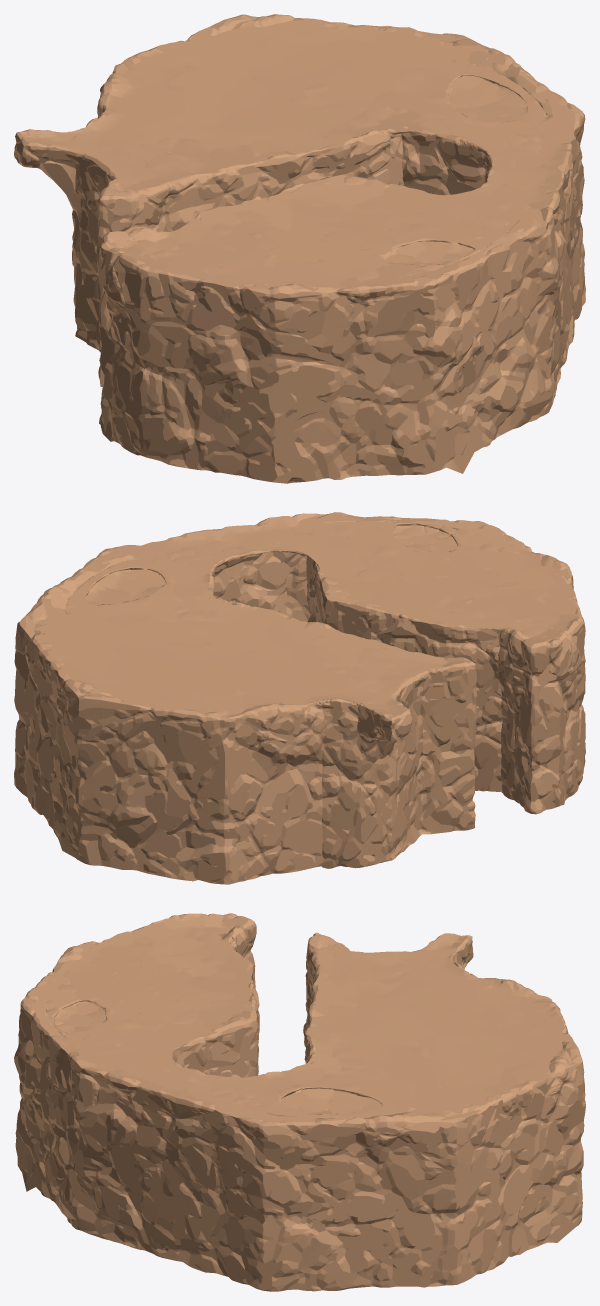
File: testSandstone.fbx
The picture shows the model from 3 angles, top to bottom: view 1: azimuth 30°, elevation 25°; view 2: azimuth 150°, elevation 25°; view 3: azimuth 270°, elevation 25°; orthographic projection. The views are drawn at different scales.
Visible parts, largest first — view 1: Mesh_2; view 2: Mesh_2; view 3: Mesh_2.
Boxes of the visible parts, bbox=[...] form: Mesh_2: bbox=[14, 14, 585, 483]; Mesh_2: bbox=[14, 512, 585, 884]; Mesh_2: bbox=[14, 913, 585, 1291].
Size of the model in its own units: 21591 by 8382 by 24021.
